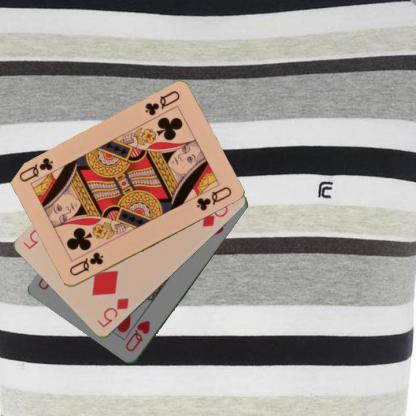5d: (94, 296, 130, 330)
Qc: (141, 89, 181, 118), (66, 250, 104, 278)
Qh: (122, 318, 152, 353)
